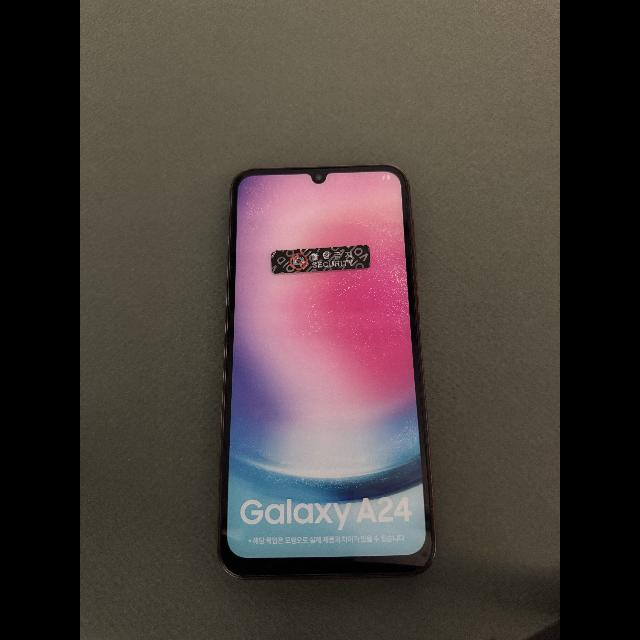lens: (315, 173, 322, 180)
phone: (219, 164, 435, 578)
sticker: (271, 245, 370, 275)
